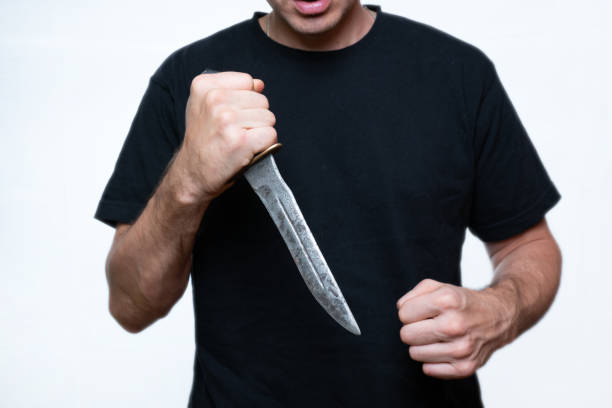knife: (238, 140, 362, 337)
